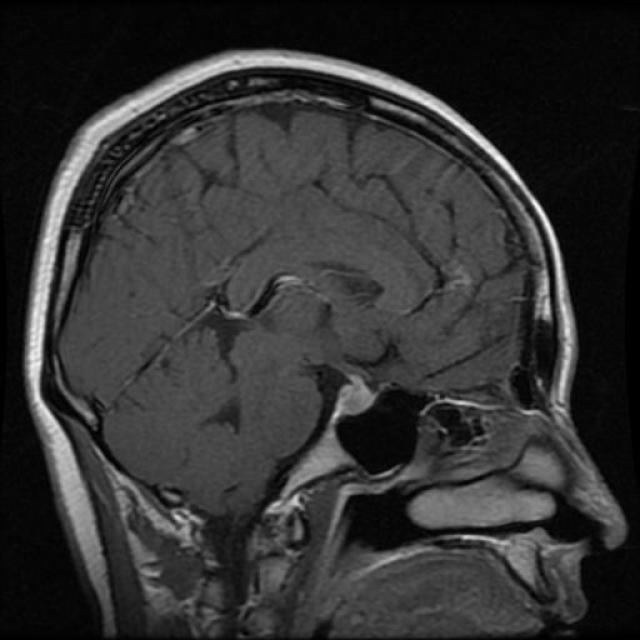pituitary: (300, 342, 384, 446)
